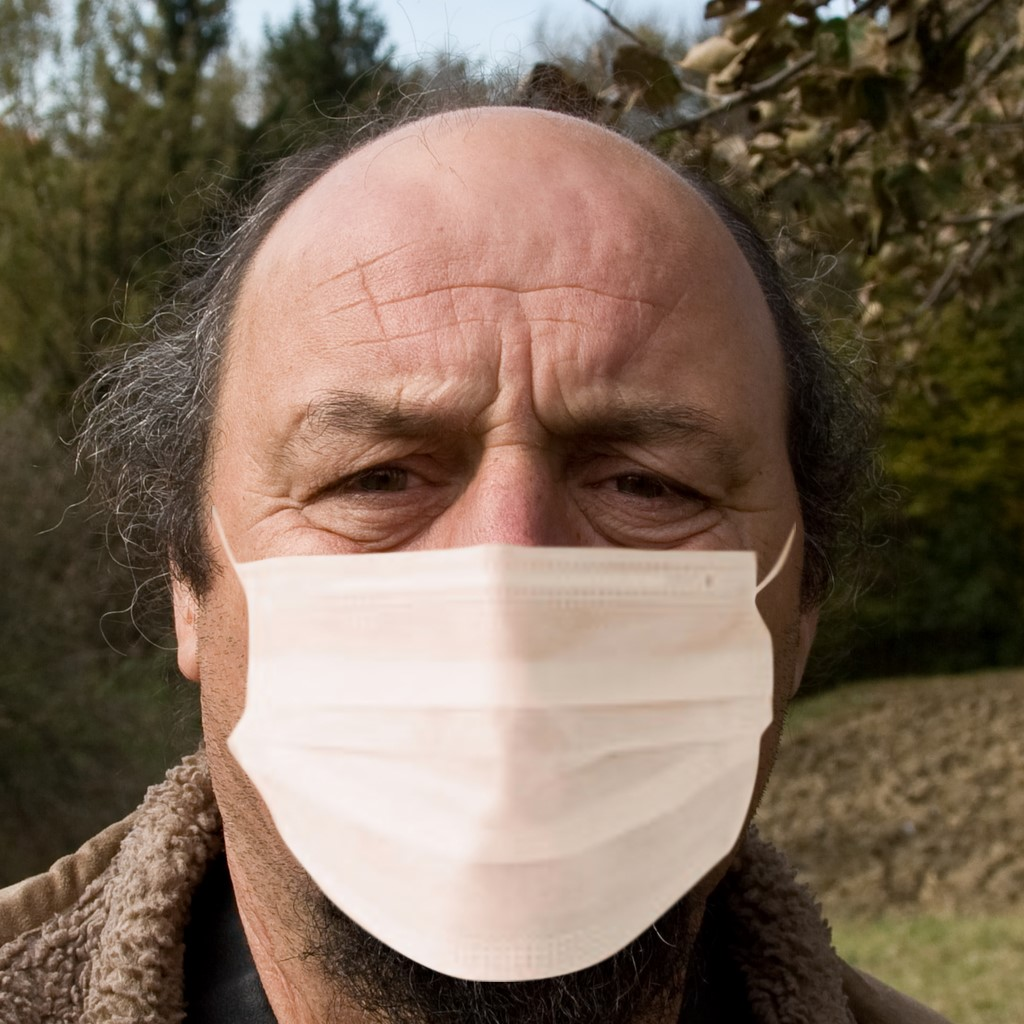con_mascara: (210, 144, 769, 949)
